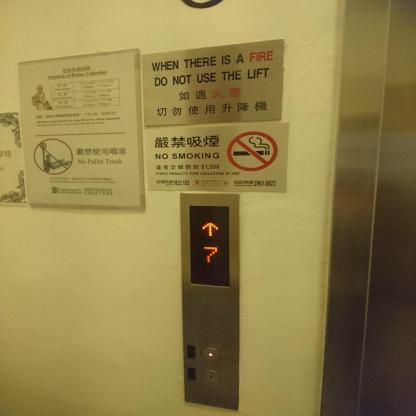down: (202, 369, 221, 385)
led: (188, 204, 231, 288)
up: (200, 346, 221, 362)
